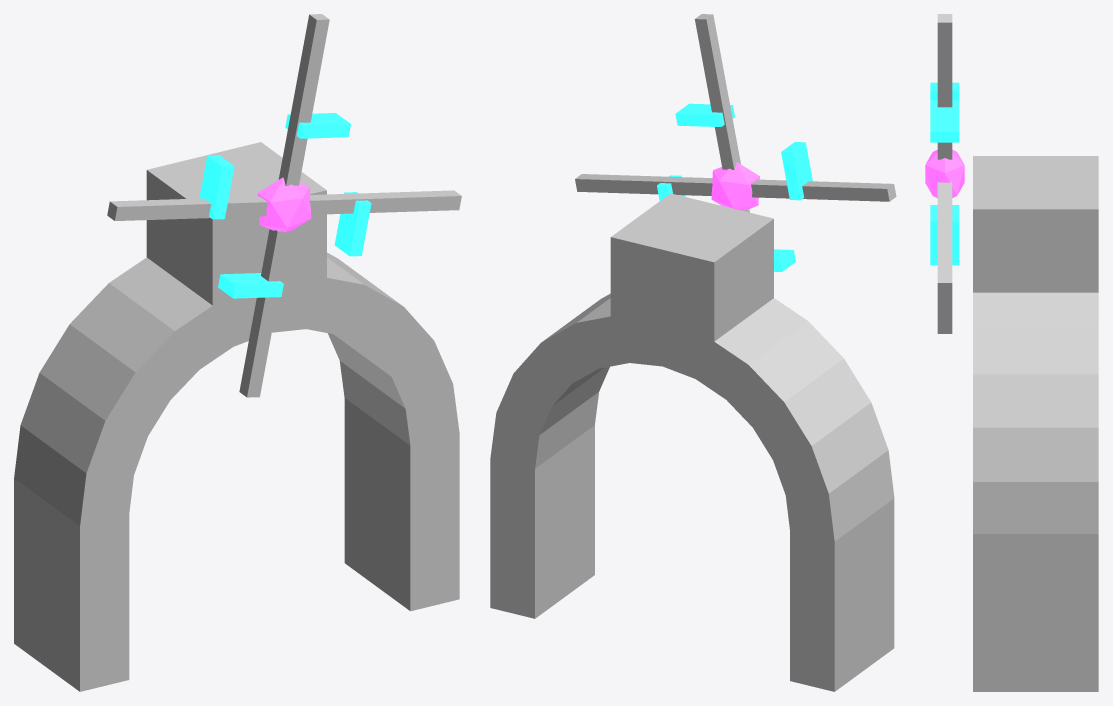
The picture shows the model from 3 angles, left to right: view 1: azimuth 30°, elevation 25°; view 2: azimuth 150°, elevation 25°; view 3: azimuth 270°, elevation 25°; orthographic projection. The views are drawn at different scales.
Parts seen in each view (by area): view 1: Neon_WindmillGate_Simple; view 2: Neon_WindmillGate_Simple; view 3: Neon_WindmillGate_Simple.
Part boxes in pixels (left/top/right/bottom): Neon_WindmillGate_Simple: left=14, top=14, right=461, bottom=691; Neon_WindmillGate_Simple: left=490, top=14, right=896, bottom=691; Neon_WindmillGate_Simple: left=925, top=14, right=1098, bottom=691.
Size of the model in its own units: 2.16 by 3.44 by 0.8971.
